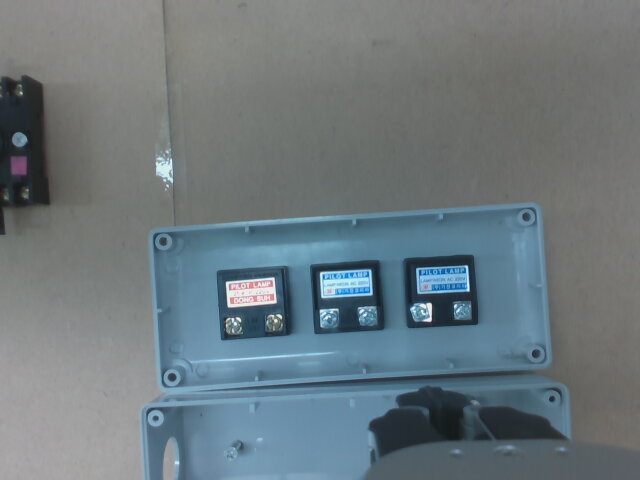L1(1): (223, 317, 242, 334)
L1(2): (265, 315, 282, 331)
L2(1): (318, 309, 339, 329)
L2(2): (357, 307, 378, 326)
L3(1): (411, 301, 433, 322)
L3(2): (453, 301, 473, 319)
